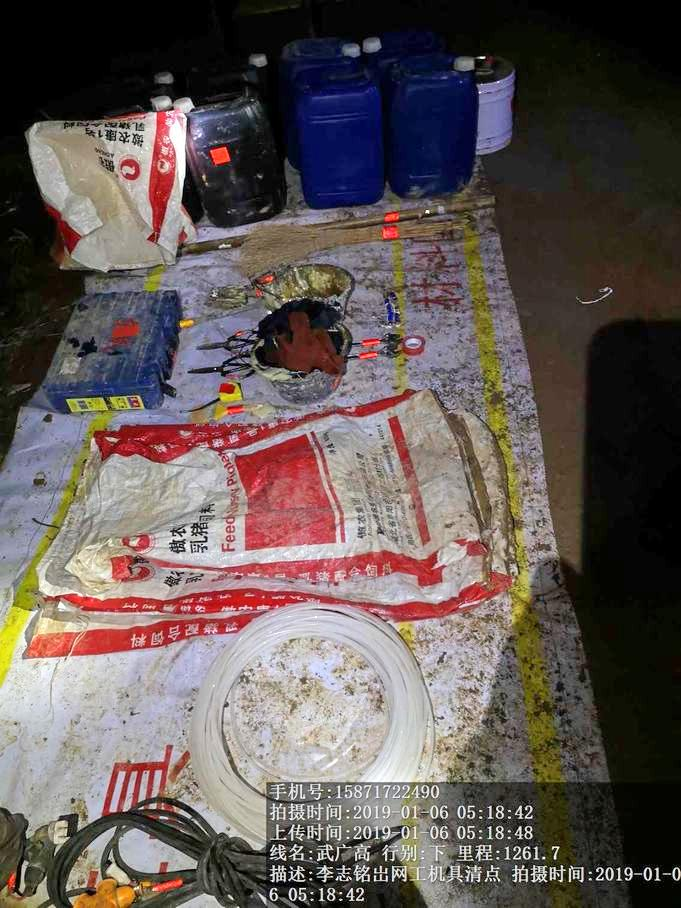BZD: (32, 426, 535, 623)
SG: (187, 605, 440, 781)
SLT: (275, 60, 388, 215)
SNT: (252, 310, 352, 398)
